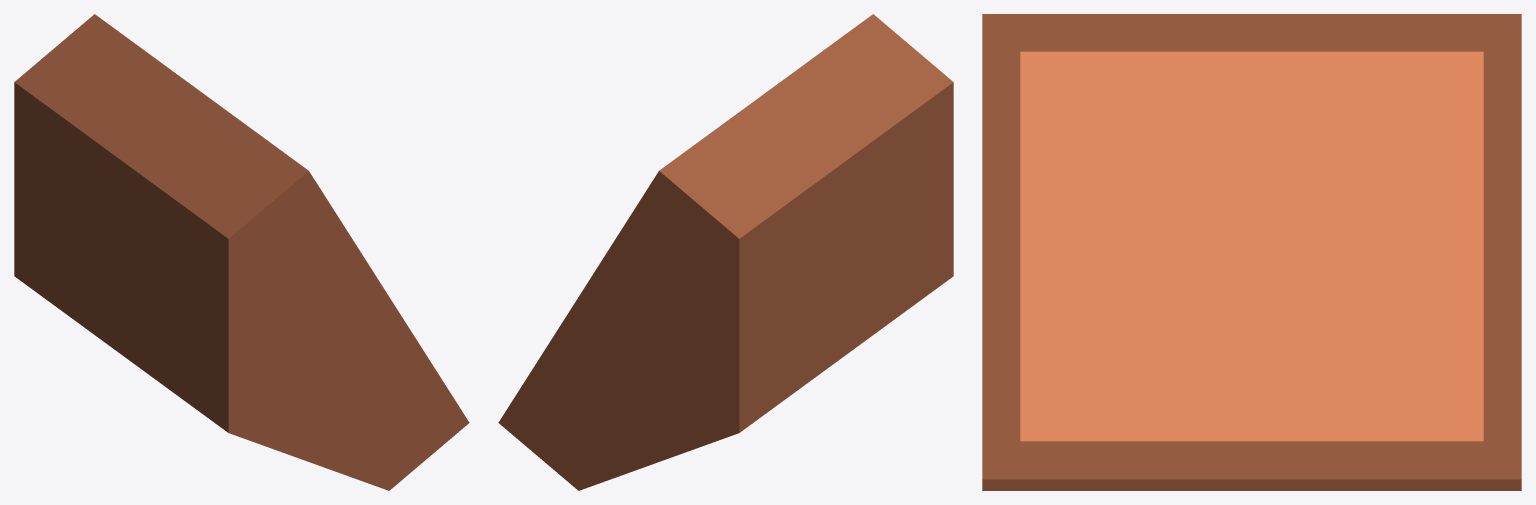
File: trunk_chopped_half.fbx
3 renders of one model, left to right at view 1: azimuth 30°, elevation 25°; view 2: azimuth 150°, elevation 25°; view 3: azimuth 270°, elevation 25°, orthographic. The views are drawn at different scales.
Parts seen in each view (by area): view 1: trunk_chopped_half; view 2: trunk_chopped_half; view 3: trunk_chopped_half.
Part boxes in pixels (x1,y1,x2,y2): trunk_chopped_half: (14,14,469,490); trunk_chopped_half: (498,14,953,490); trunk_chopped_half: (982,14,1521,490).
Bounding box in the file's own units: 130 × 175 × 200.
